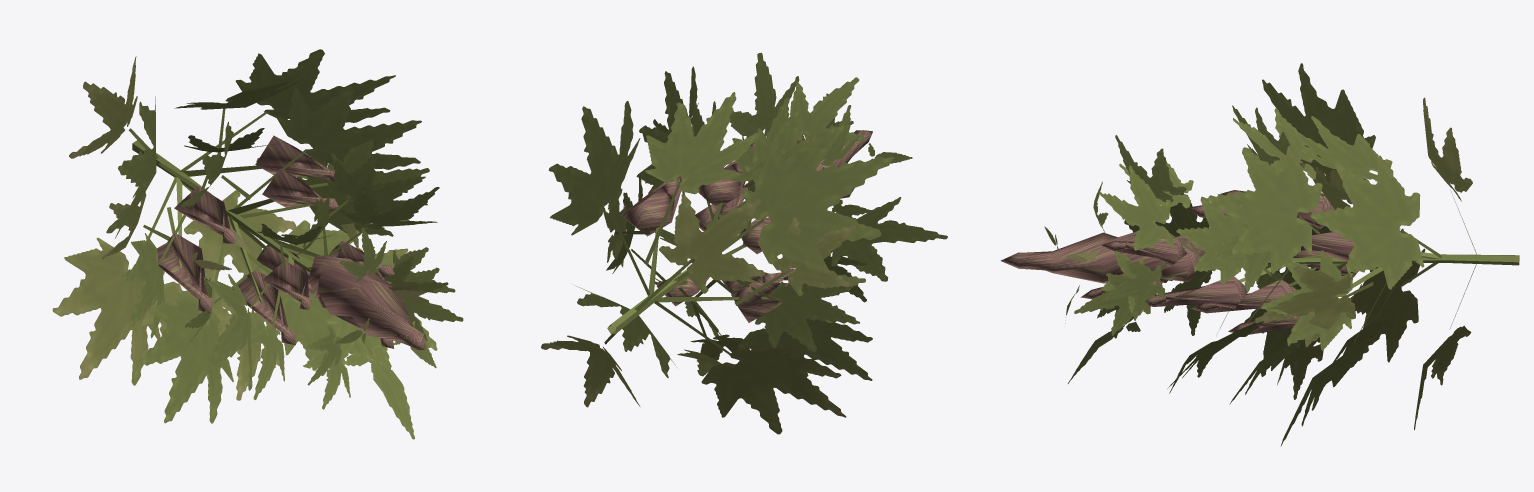
Rendered from p_purple_hybrid_ripe_c1_cards.obj.
The picture shows the model from 3 angles, left to right: view 1: azimuth 30°, elevation 25°; view 2: azimuth 150°, elevation 25°; view 3: azimuth 270°, elevation 25°; orthographic projection. The views are drawn at different scales.
Size of the model in its own units: 1.4 by 1.27 by 1.65.
Materials: 1 (1 with a texture image).
